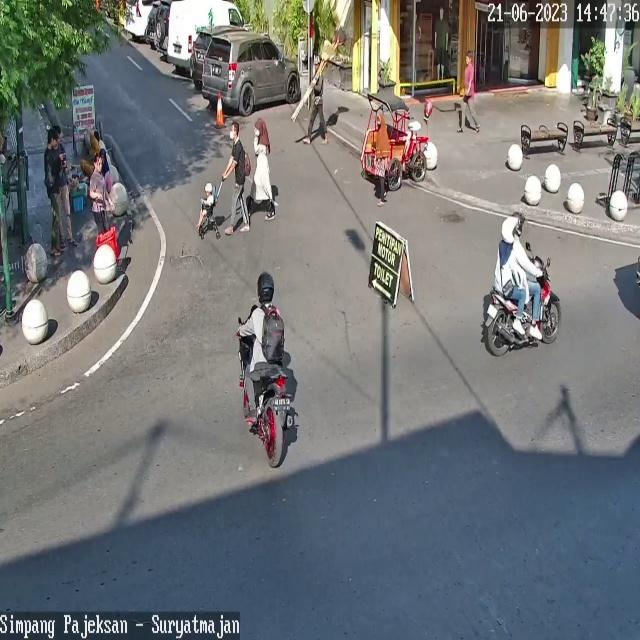bus: (238, 304, 295, 469), (485, 256, 561, 356)
motorcycle: (202, 31, 300, 116), (166, 0, 244, 67), (191, 28, 213, 82), (123, 0, 152, 36)
